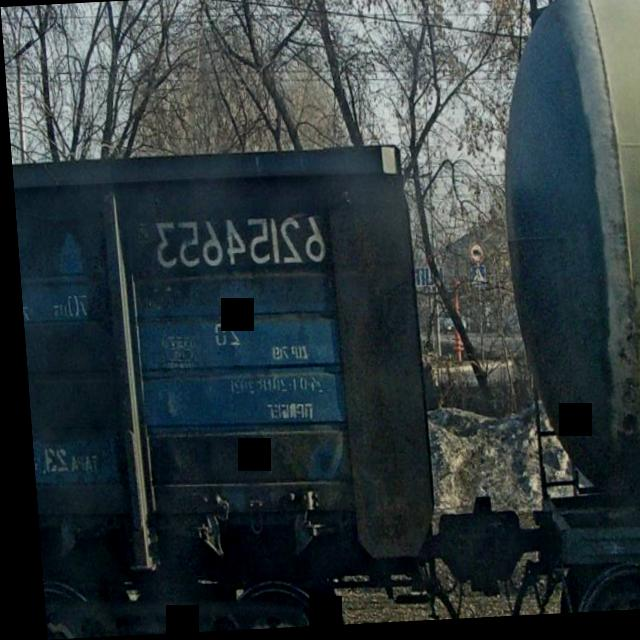gondola: (7, 110, 455, 640)
tank: (479, 0, 640, 620)
